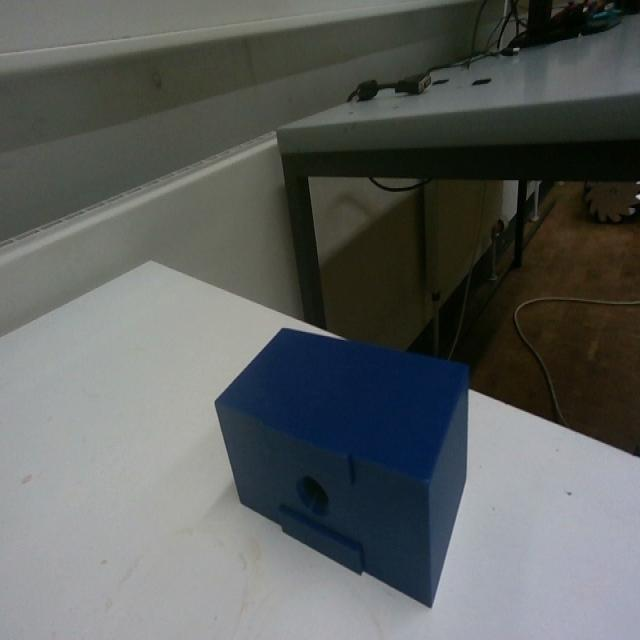Blue Cuboid: (212, 321, 472, 608)
